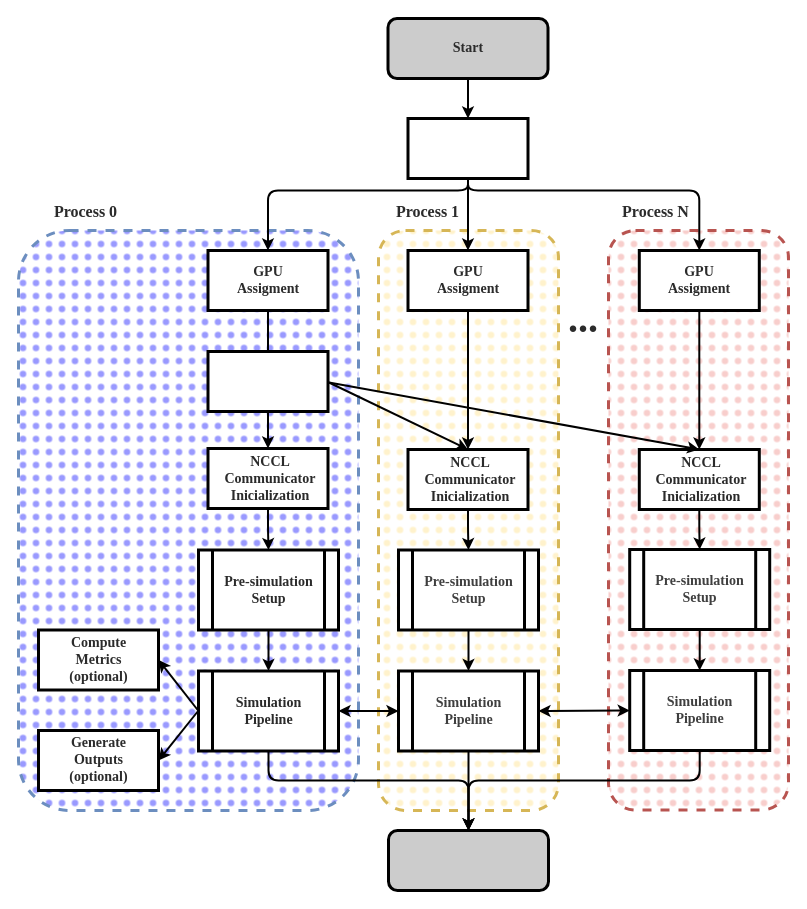
Some shapes in this 807 by 909 pixel diagram are drawn without their labels. Here are the shapes that lost their labels. From the top down, the box of each, then its label:
(406, 116, 529, 180): MPI Initialization
(206, 350, 329, 412): NCCL ID Creation and Broadcast
(386, 828, 550, 892): End Simulation
